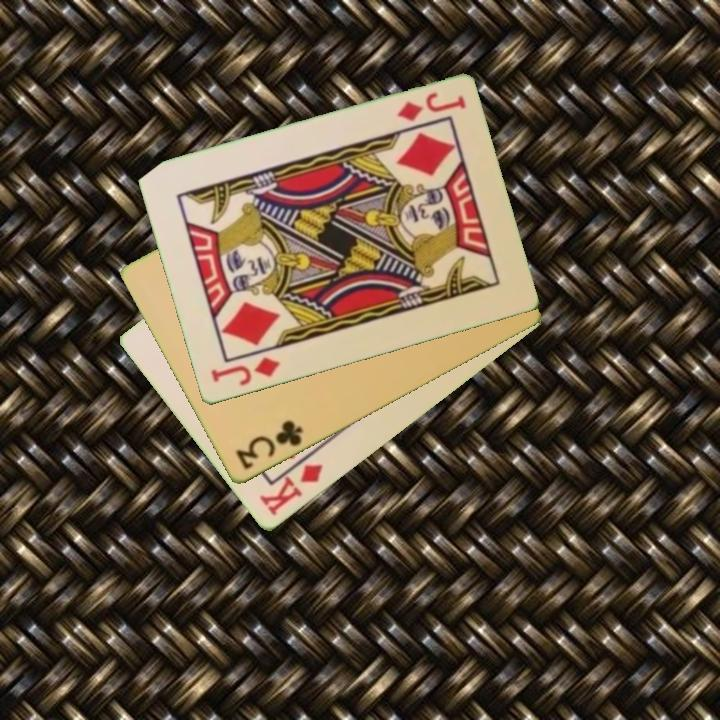3c: (232, 417, 306, 474)
Jd: (207, 353, 283, 389), (393, 89, 469, 125)
Kd: (255, 461, 326, 520)
